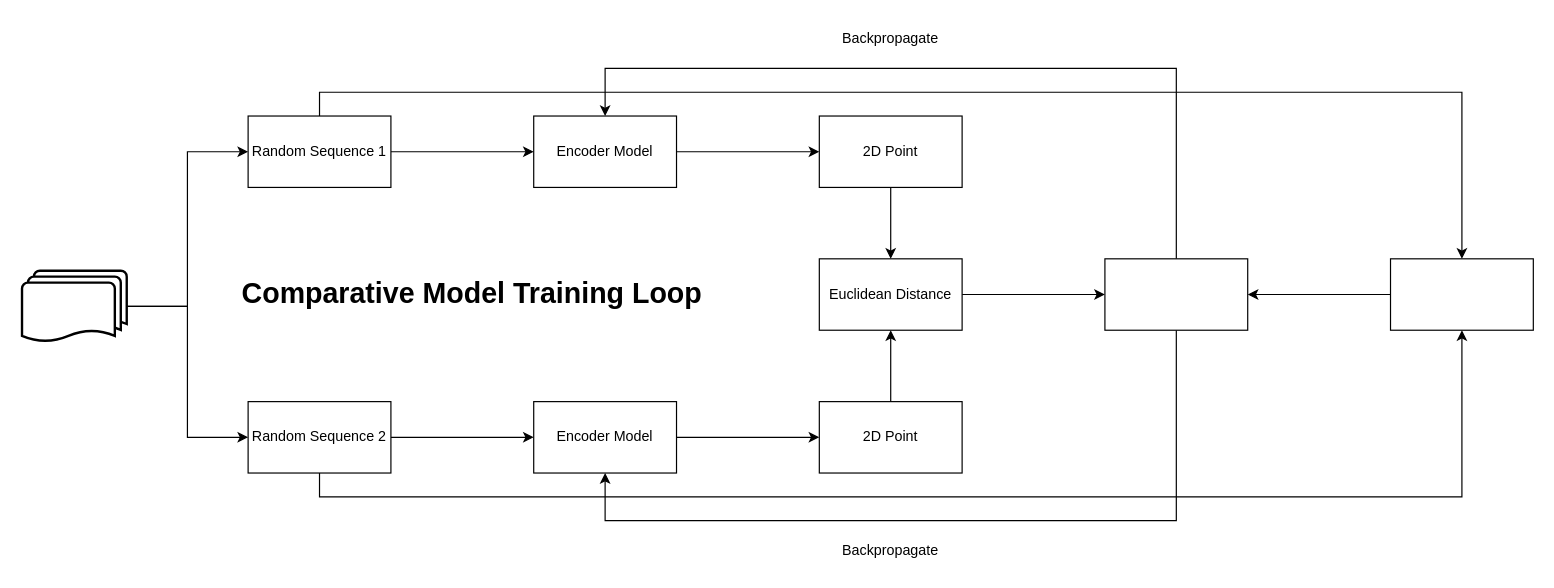
Some shapes in this 1554 by 588 pixel diagram are drawn without their labels. Each missing label, with the centre of its shape:
Dataset: [73,306]
Loss Function: [1176,294]
Pairwise Alignment Distance: [1461,294]
